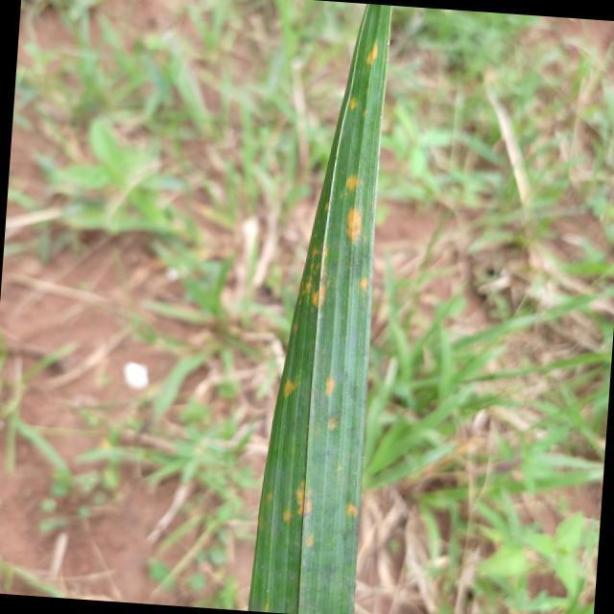Kalium: (248, 0, 393, 614)
